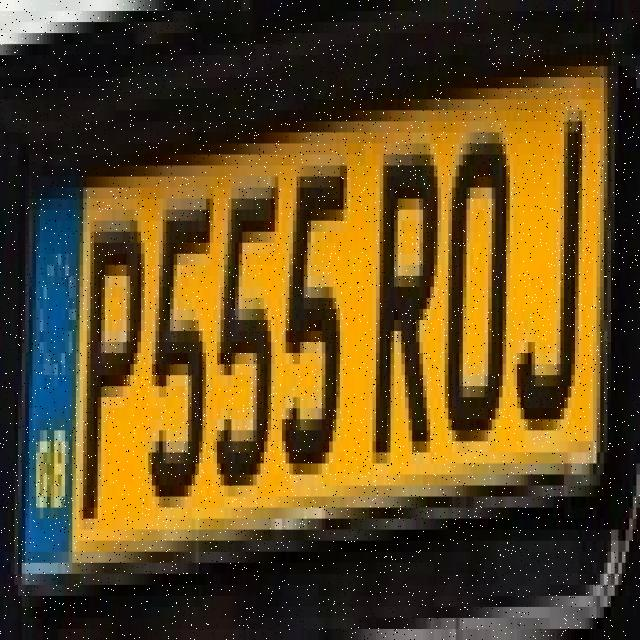licenseplate: (10, 29, 618, 570)
